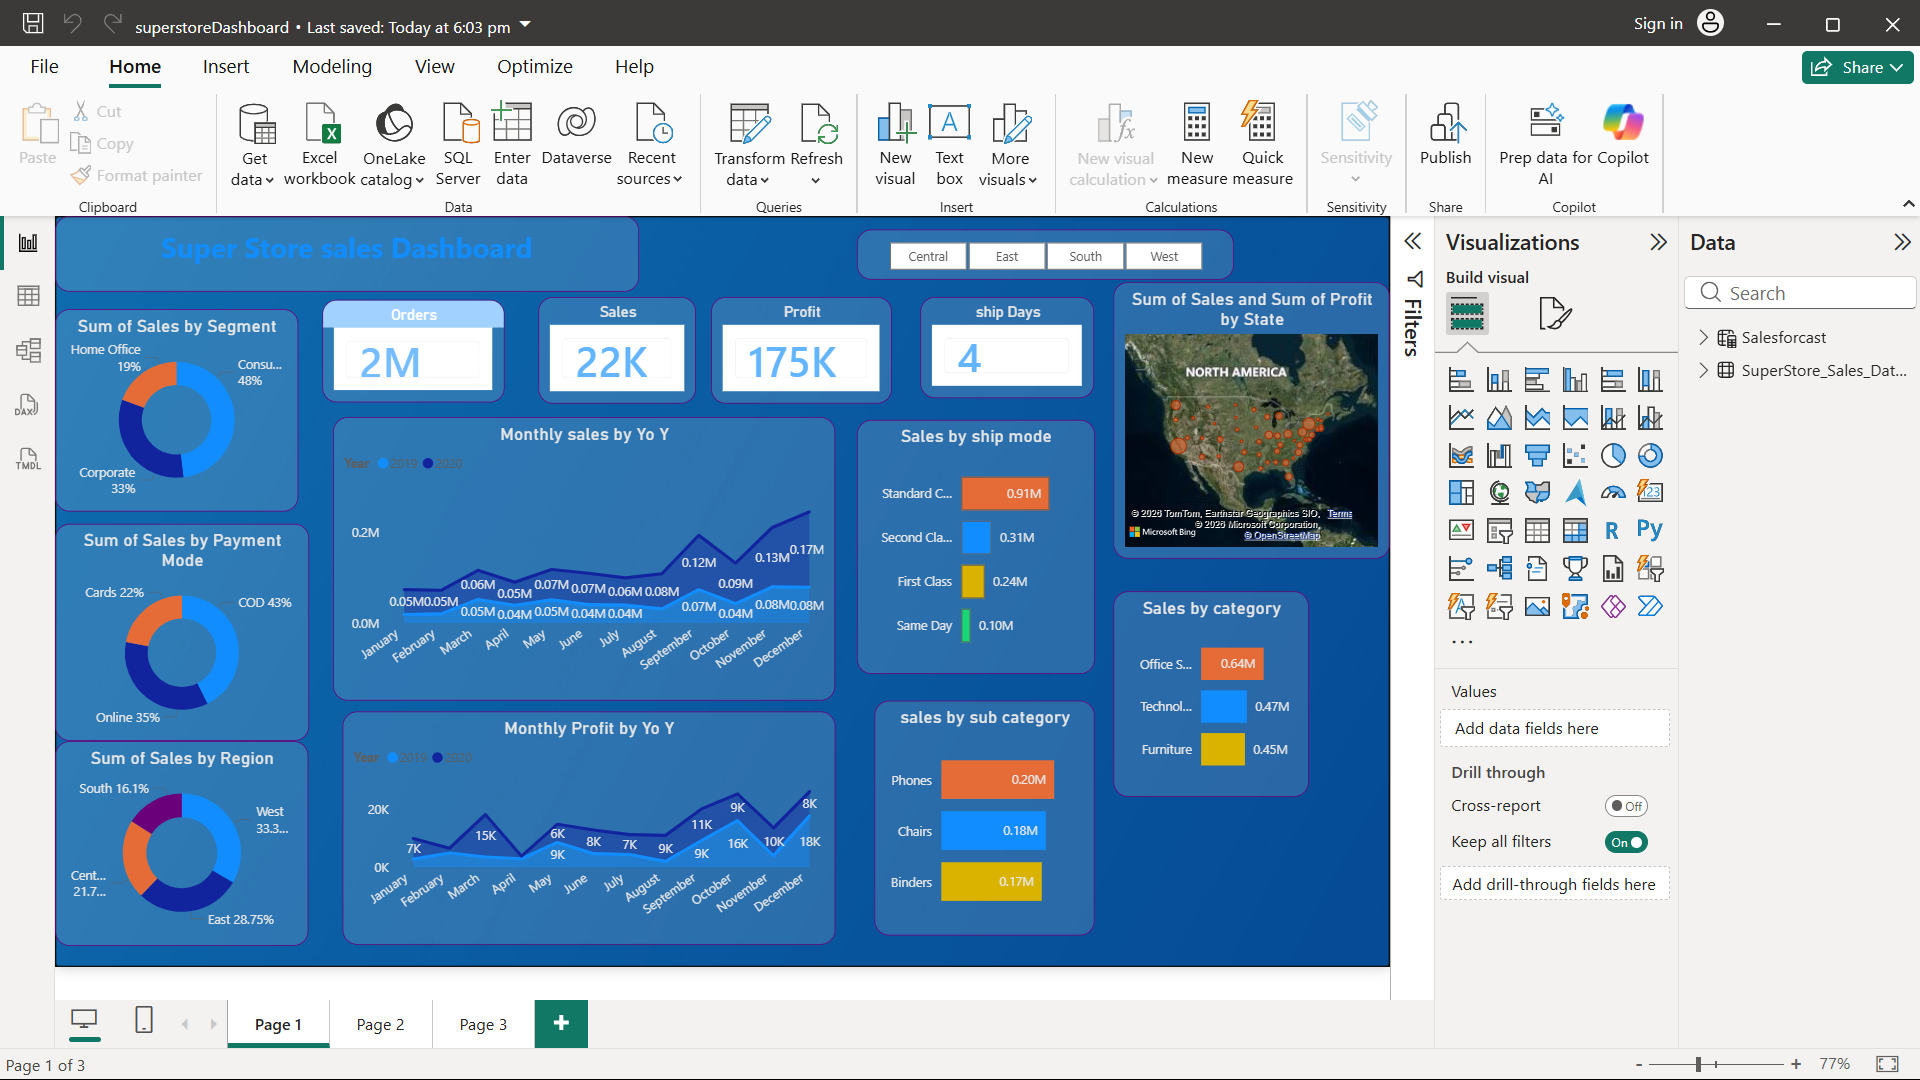

Layout of this report page (visuals, bound fields, positions):
{"tool":"powerbi","page":{"name":"Page 1","canvas":[1280,720],"ordinal":0},"visuals":[{"type":"clusteredBarChart","title":"Sales by category","fields":{"Category":["SuperStore_Sales_Dataset.Category"],"Y":["Sum(SuperStore_Sales_Dataset.Sales)"]},"box":[1014.9,359.9,187.7,196.8],"z":0},{"type":"clusteredBarChart","title":"sales by sub category","fields":{"Category":["SuperStore_Sales_Dataset.Sub-Category"],"Y":["Sum(SuperStore_Sales_Dataset.Sales)"]},"box":[785.8,464.7,211,225.3],"z":1000},{"type":"clusteredBarChart","title":"Sales by ship mode","fields":{"Category":["SuperStore_Sales_Dataset.Ship Mode","SuperStore_Sales_Dataset.Category"],"Y":["Sum(SuperStore_Sales_Dataset.Sales)"]},"box":[769,195.5,227.8,243.4],"z":2000},{"type":"stackedAreaChart","title":"Monthly sales by Yo Y","fields":{"Y":["Sum(SuperStore_Sales_Dataset.Sales)"],"Category":["SuperStore_Sales_Dataset.Order Date.Variation.Date Hierarchy.Month","SuperStore_Sales_Dataset.Order Date.Variation.Date Hierarchy.Day"],"Series":["SuperStore_Sales_Dataset.Order Date.Variation.Date Hierarchy.Year"]},"box":[266.7,192.9,481.6,271.9],"z":3000},{"type":"stackedAreaChart","title":"Monthly Profit by Yo Y","fields":{"Category":["SuperStore_Sales_Dataset.Order Date.Variation.Date Hierarchy.Month","SuperStore_Sales_Dataset.Order Date.Variation.Date Hierarchy.Day"],"Series":["SuperStore_Sales_Dataset.Order Date.Variation.Date Hierarchy.Year"],"Y":["Sum(SuperStore_Sales_Dataset.Profit)"]},"box":[275.7,475.1,472.5,224],"z":4000},{"type":"donutChart","fields":{"Category":["SuperStore_Sales_Dataset.Segment"],"Y":["Sum(SuperStore_Sales_Dataset.Sales)"]},"box":[0,89.3,233,194.2],"z":5000},{"type":"donutChart","fields":{"Category":["SuperStore_Sales_Dataset.Payment Mode"],"Y":["Sum(SuperStore_Sales_Dataset.Sales)"]},"box":[0,295.2,243.4,208.4],"z":6000},{"type":"map","fields":{"Category":["SuperStore_Sales_Dataset.State"],"Size":["Sum(SuperStore_Sales_Dataset.Sales)"]},"box":[1014.9,63.4,265.4,265.4],"z":7000},{"type":"textbox","box":[0,0,560,72.9],"z":8000},{"type":"cardVisual","title":"Orders","fields":{"Data":["Sum(SuperStore_Sales_Dataset.Sales)"]},"box":[256.3,80.3,174.8,98.4],"z":9000},{"type":"cardVisual","title":"Sales","fields":{"Data":["Sum(SuperStore_Sales_Dataset.Quantity)"]},"box":[463.5,77.7,151.5,102.3],"z":10000},{"type":"cardVisual","title":"Profit","fields":{"Data":["Sum(SuperStore_Sales_Dataset.Profit)"]},"box":[629.2,77.7,173.5,102.3],"z":11000},{"type":"cardVisual","title":"ship Days","fields":{"Data":["Avg(SuperStore_Sales_Dataset.AvgDelivery)"]},"box":[829.8,77.7,167,97.1],"z":12000},{"type":"donutChart","fields":{"Category":["SuperStore_Sales_Dataset.Region"],"Y":["Sum(SuperStore_Sales_Dataset.Sales)"]},"box":[0,503,243,196],"z":13000},{"type":"slicer","fields":{"Values":["SuperStore_Sales_Dataset.Region"]},"box":[769,12.9,361.2,47.9],"z":14000}]}

Visuals, with their boxes on the page's 1280x720 design canvas (x1, y1, x2, y2). These are canvas units, not pixel positions in the 1920x1080 screenshot, which may show the page scaled, cropped or inside an application window:
"Sales by category" clusteredBarChart: 1015 360 1203 557
"sales by sub category" clusteredBarChart: 786 465 997 690
"Sales by ship mode" clusteredBarChart: 769 196 997 439
"Monthly sales by Yo Y" stackedAreaChart: 267 193 748 465
"Monthly Profit by Yo Y" stackedAreaChart: 276 475 748 699
donutChart - SuperStore_Sales_Dataset.Segment x Sum(SuperStore_Sales_Dataset.Sales): 0 89 233 284
donutChart - SuperStore_Sales_Dataset.Payment Mode x Sum(SuperStore_Sales_Dataset.Sales): 0 295 243 504
map - SuperStore_Sales_Dataset.State x Sum(SuperStore_Sales_Dataset.Sales): 1015 63 1280 329
textbox: 0 0 560 73
"Orders" cardVisual: 256 80 431 179
"Sales" cardVisual: 464 78 615 180
"Profit" cardVisual: 629 78 803 180
"ship Days" cardVisual: 830 78 997 175
donutChart - SuperStore_Sales_Dataset.Region x Sum(SuperStore_Sales_Dataset.Sales): 0 503 243 699
slicer - SuperStore_Sales_Dataset.Region: 769 13 1130 61
